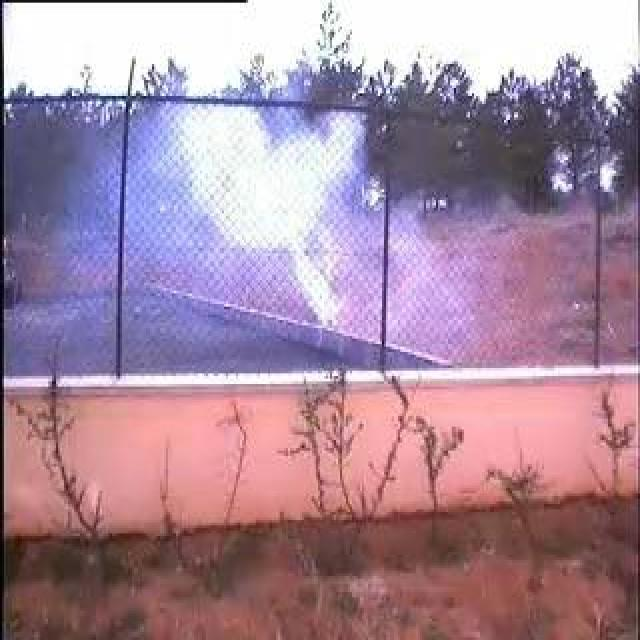Smoke: (122, 112, 436, 352)
